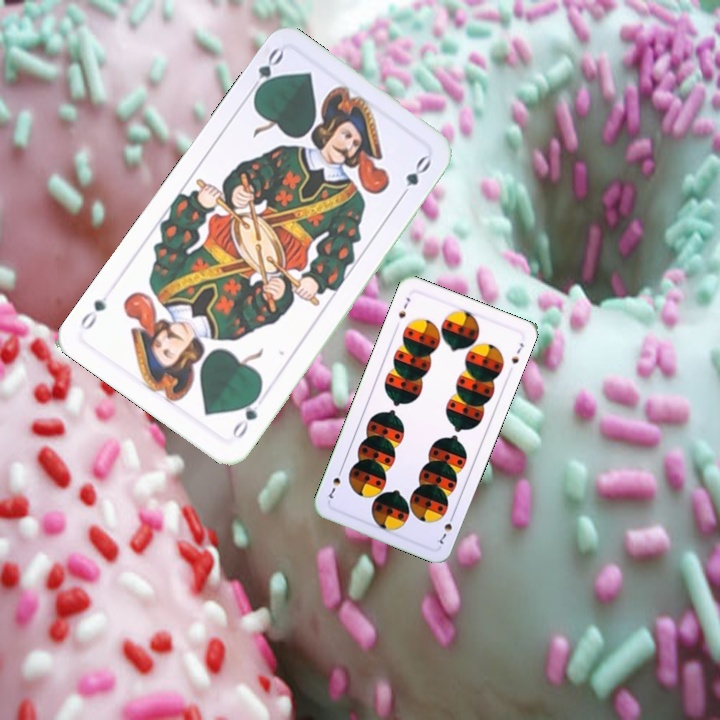GO: (244, 44, 287, 100), (228, 389, 263, 442)
S7: (432, 510, 457, 547), (394, 293, 413, 321)
